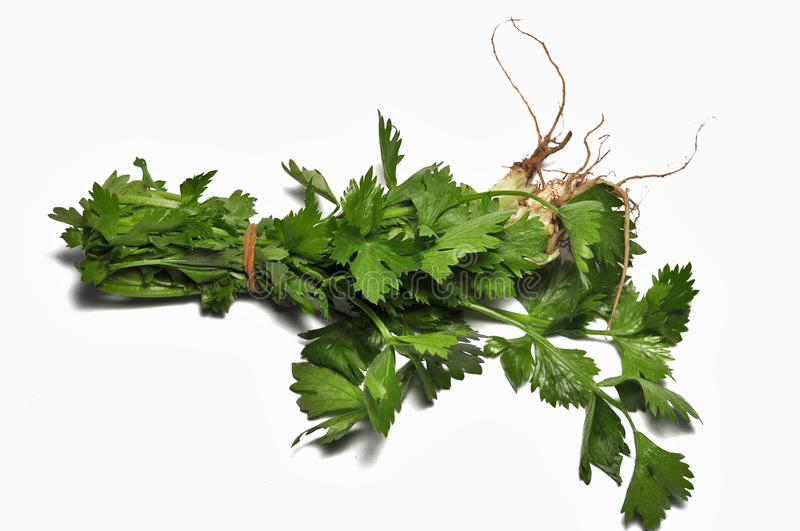Seledri: (57, 136, 740, 521)
